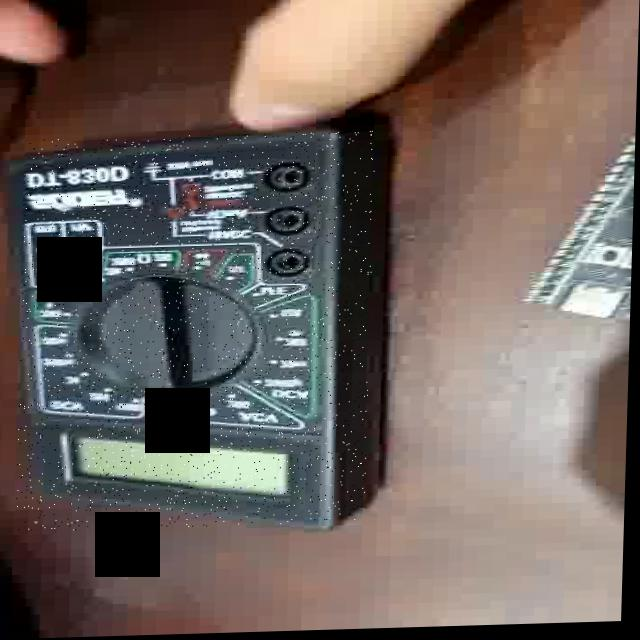multimeter: (19, 133, 377, 533)
